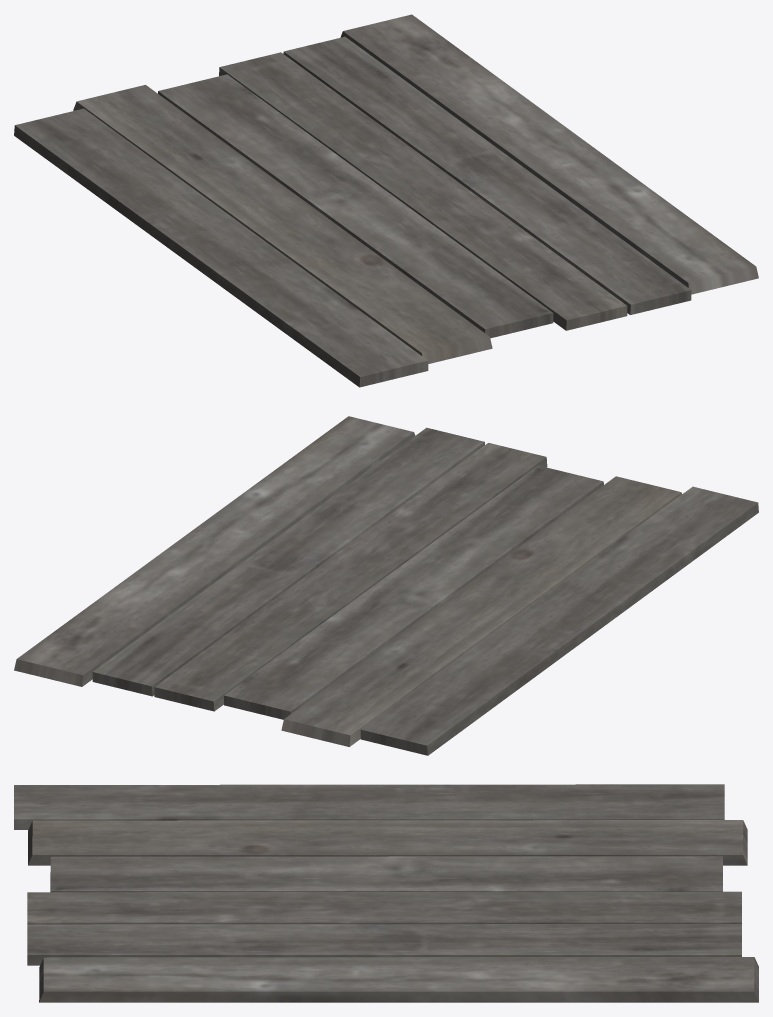
Rendered from jov_woodplate01b.fbx.
The picture shows the model from 3 angles, top to bottom: view 1: azimuth 30°, elevation 25°; view 2: azimuth 150°, elevation 25°; view 3: azimuth 270°, elevation 25°; orthographic projection. The views are drawn at different scales.
Visible parts, largest first — view 1: jov_woodplate01b; view 2: jov_woodplate01b; view 3: jov_woodplate01b.
Boxes of the visible parts, x1=… form: jov_woodplate01b: x1=14, y1=14, x2=758, y2=387; jov_woodplate01b: x1=14, y1=416, x2=758, y2=755; jov_woodplate01b: x1=14, y1=784, x2=758, y2=1002.
Size of the model in its own units: 226 by 5.48 by 343.
